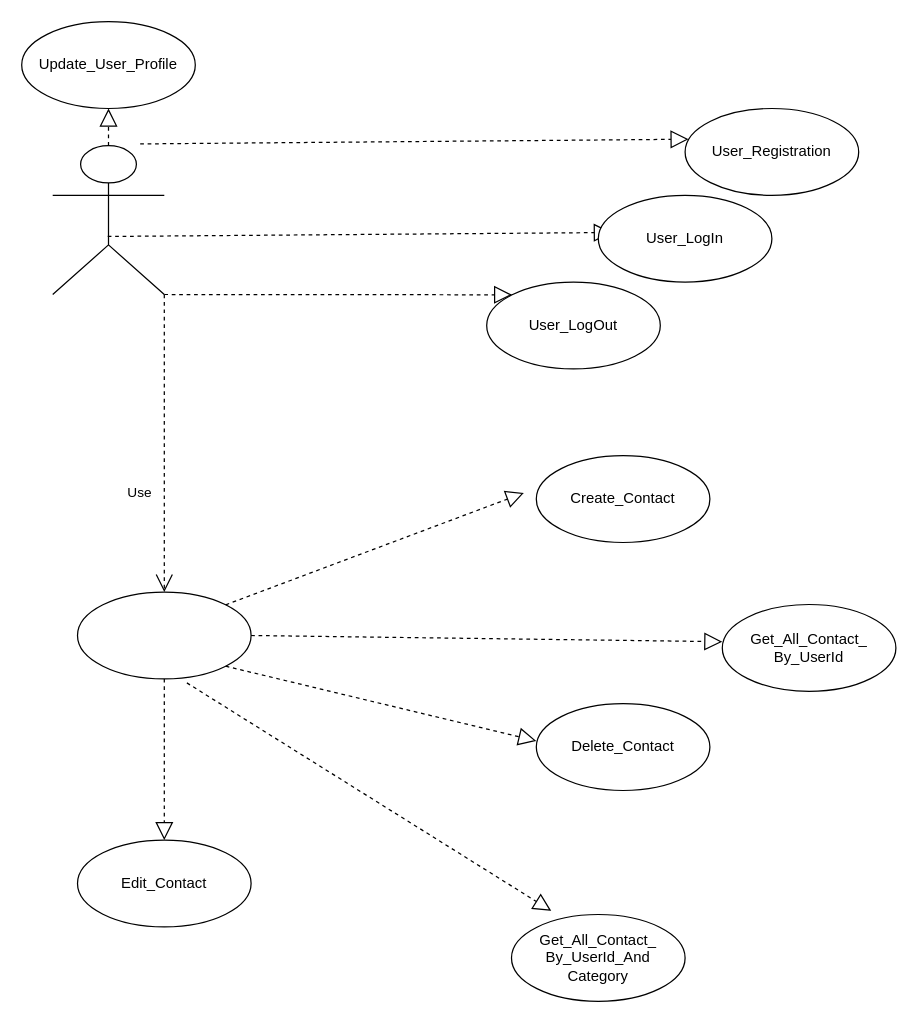
The diagram is 918 pixels wide and 1023 high, and some of its shapes have lost their labels. The centre of each missing label's shape, as x and y in pixels:
Contact_Manager_App: (163,635)
User: (107,219)
